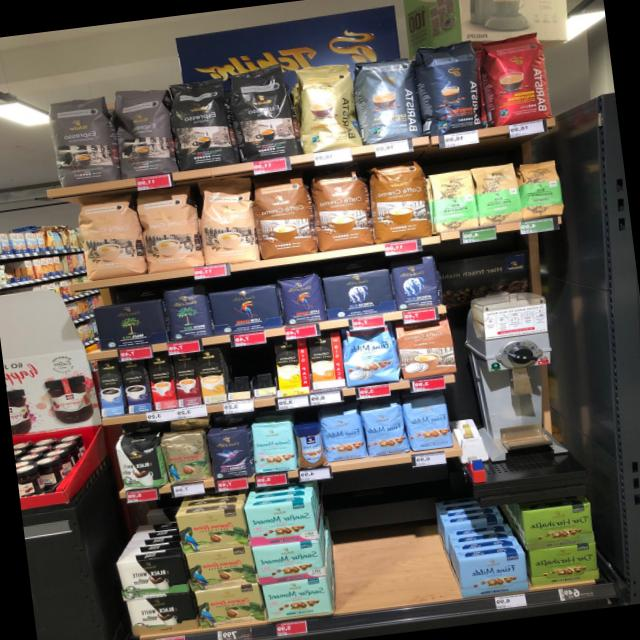AB Bohne: (389, 253, 442, 311)
AB Gemahlen: (323, 268, 395, 319)
Athiopien Bohne: (515, 156, 565, 218)
Athiopien Gemahlen: (426, 164, 480, 235), (470, 161, 523, 228)
BM Bohne: (160, 283, 213, 342)
BM Gemahlen: (91, 298, 169, 350)
BW Bohne: (112, 433, 166, 491)
BW Gemahlen: (115, 554, 191, 602), (124, 592, 199, 637)
Barista CB: (291, 61, 364, 153)
Barista CC: (353, 53, 423, 144)
Barista Espresso: (415, 37, 485, 135)
Barista Kolumbien: (474, 27, 563, 128)
C Fino Bohne: (205, 424, 255, 480)
CC Mild: (69, 189, 145, 281), (133, 184, 203, 275), (195, 176, 259, 267)
CC Vollmundig: (394, 317, 458, 380)
CC Vollmundig 36 Pads: (363, 155, 434, 246), (250, 172, 320, 260), (307, 163, 375, 253)
Colombia BB Bohne: (159, 429, 211, 484)
Colombia BB Gemahlen: (174, 507, 250, 553), (183, 546, 258, 591), (194, 583, 267, 629)
Empty Shelf: (314, 467, 459, 612), (246, 341, 276, 389), (221, 345, 251, 392)
Espresso Aromatisch: (45, 90, 119, 188), (107, 84, 179, 180)
Espresso Kraftig: (226, 61, 304, 165), (165, 72, 240, 171)
FM 36 Pads: (341, 324, 402, 389)
FM Bohne: (400, 392, 455, 453), (358, 399, 411, 458), (318, 406, 369, 463)
FM Gemahlen: (456, 551, 531, 598)
FM Instant: (293, 420, 326, 470)
Herzhatfe Mundig: (521, 502, 596, 551), (528, 542, 598, 587)
LG Bohne: (276, 270, 327, 326)
LG Gemahlen: (208, 283, 282, 335)
SM Bohne: (249, 417, 298, 475)
SM Gemahlen: (251, 539, 328, 586), (243, 500, 319, 547), (261, 576, 332, 620)
Simo CCMild: (273, 337, 312, 397)
Simo CCVollmundig: (307, 331, 346, 391)
Simo Decaff: (196, 347, 227, 404)
Simo Es Brazil: (147, 356, 177, 410)
Simo Es Caramel: (171, 351, 202, 407)
Simo Es Kraft: (119, 358, 152, 414)
Simo Es Vanilla: (95, 358, 124, 416)
